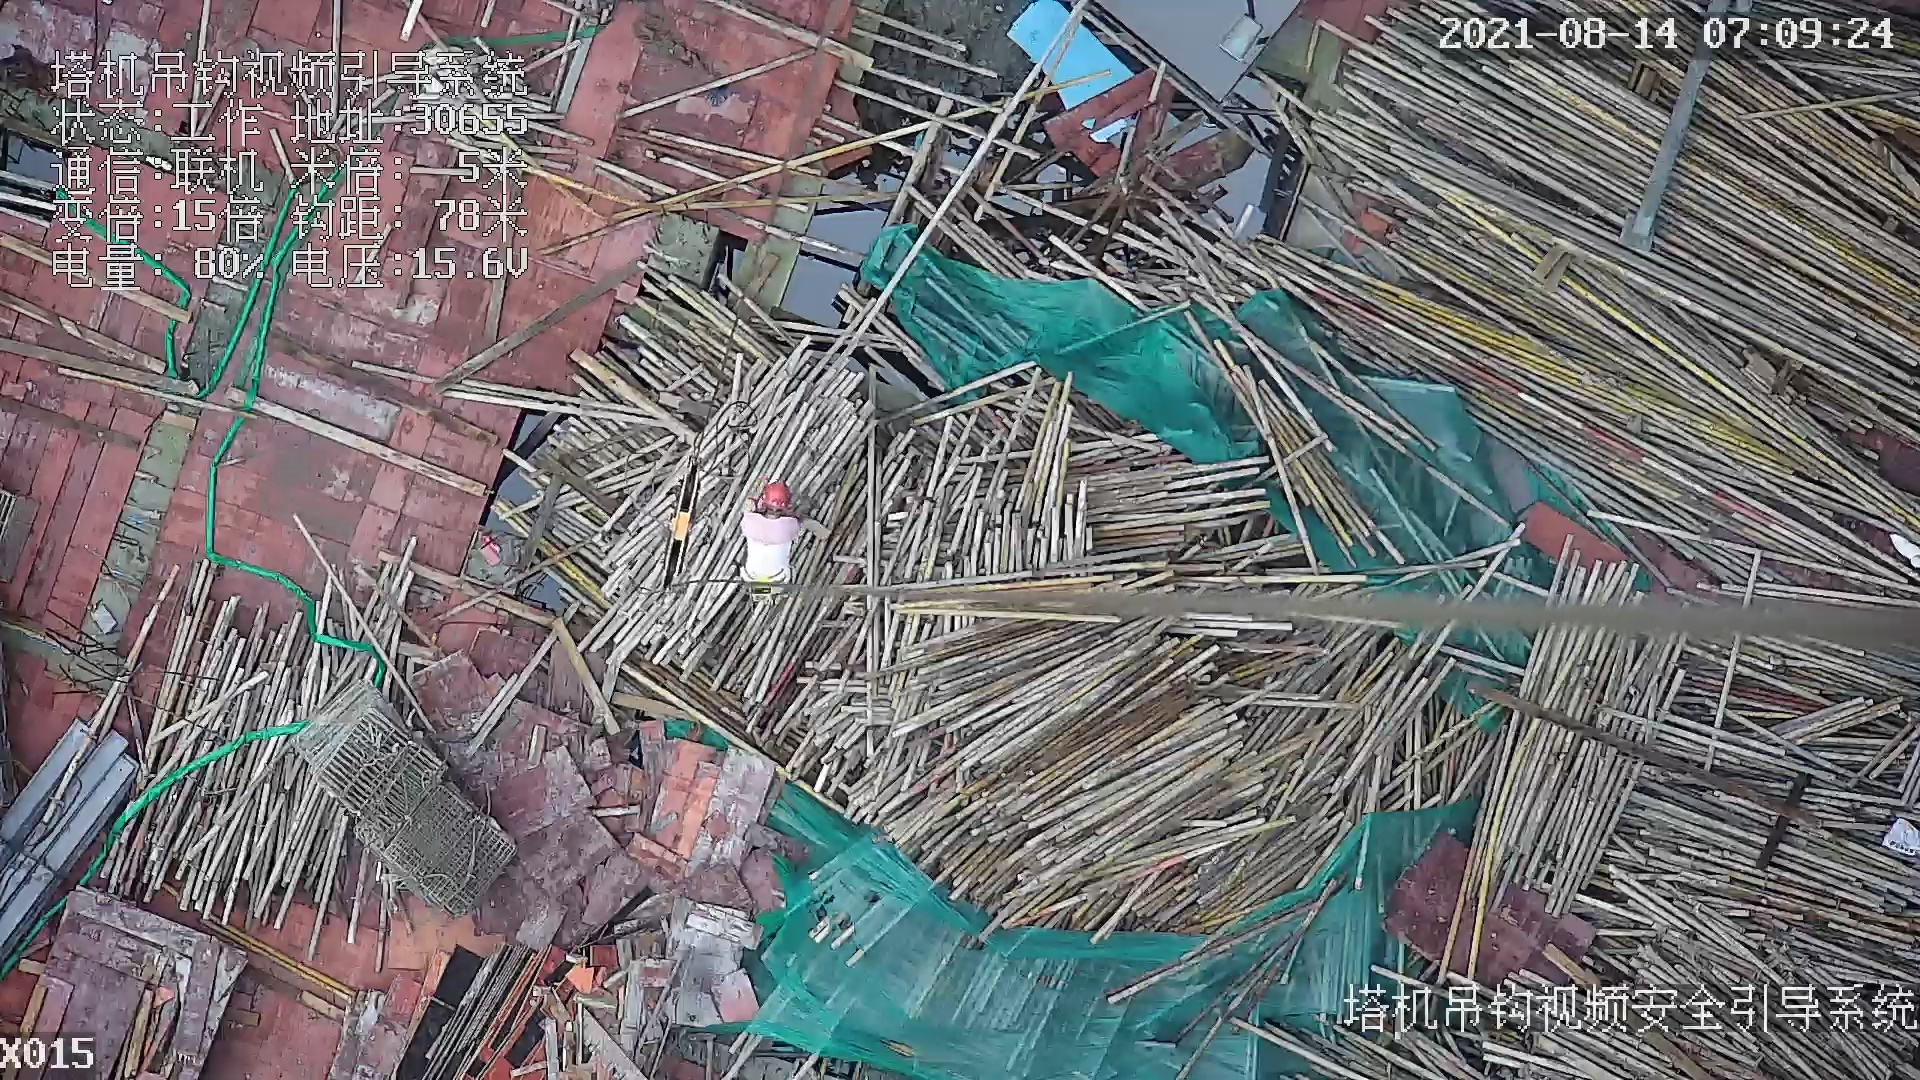helmet: (760, 481, 794, 514)
hook: (653, 450, 710, 594)
person: (738, 481, 803, 601)
